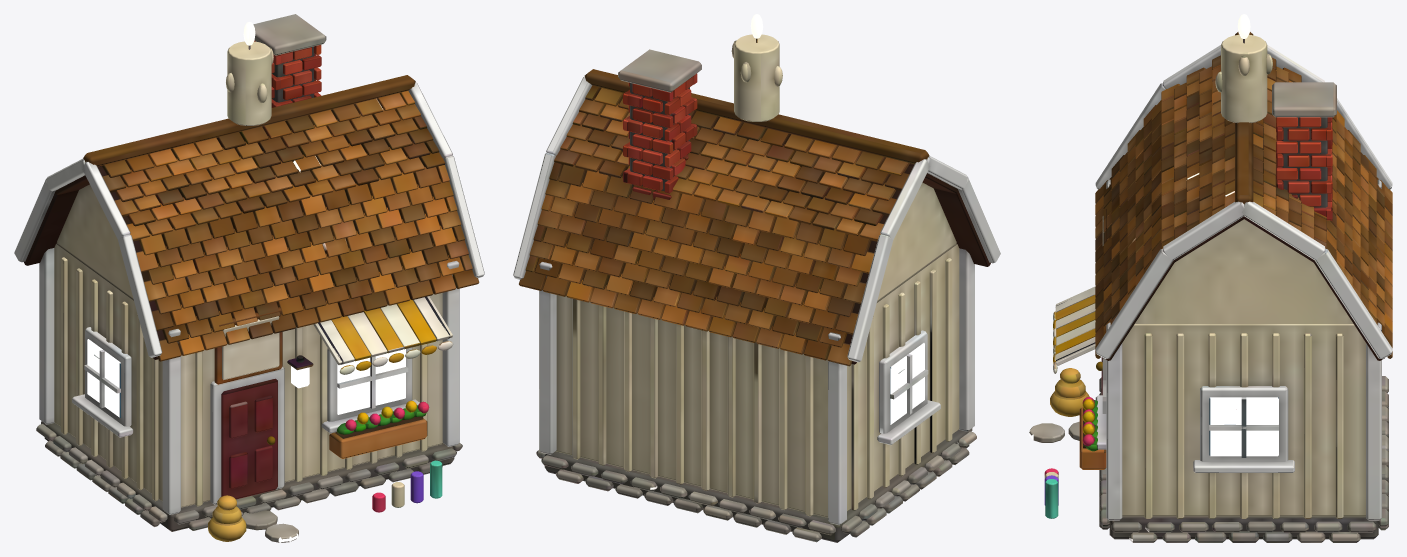
The model's file is candle_shop.glb.
3 views of the same model, side by side, from view 1: azimuth 30°, elevation 25°; view 2: azimuth 150°, elevation 25°; view 3: azimuth 270°, elevation 25° (orthographic). The views are drawn at different scales.
Visible parts, largest first — view 1: candle_shop; view 2: candle_shop; view 3: candle_shop.
Boxes of the visible parts, <box> form: candle_shop: <box>14,14,484,542</box>; candle_shop: <box>513,14,1000,542</box>; candle_shop: <box>1029,14,1392,542</box>.
Bounding box in the file's own units: 1.74 × 2.16 × 1.57.
1 material, 1 textured.
